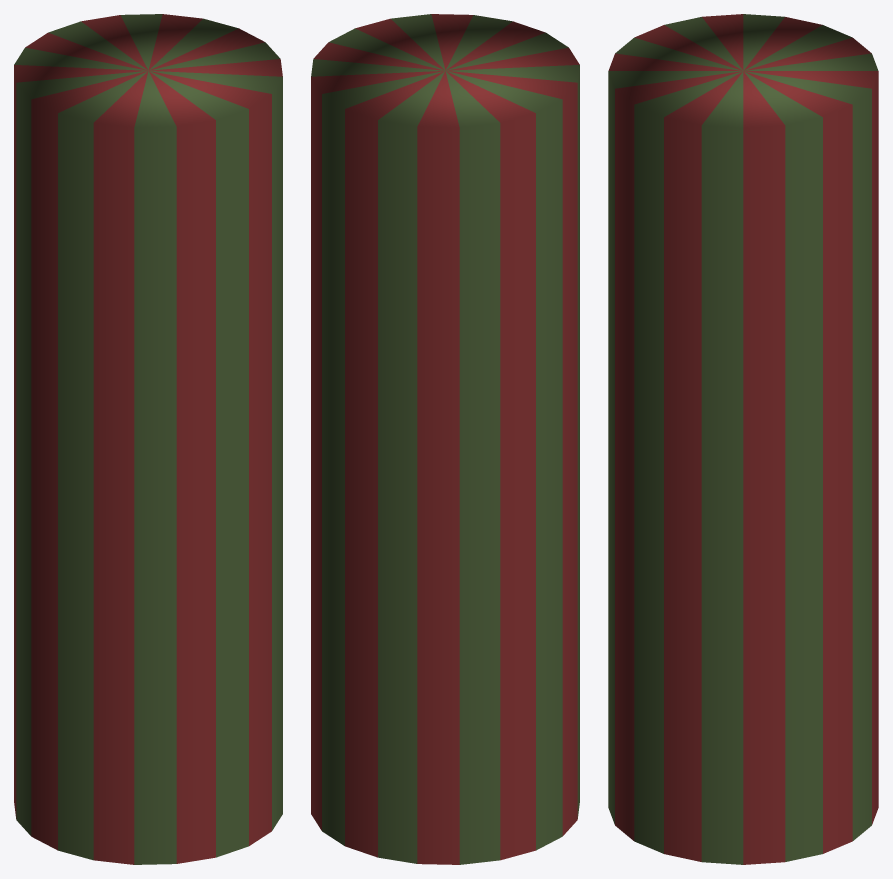
File: Unexploded Shell Final.fbx
3 renders of one model, left to right at view 1: azimuth 30°, elevation 25°; view 2: azimuth 150°, elevation 25°; view 3: azimuth 270°, elevation 25°, orthographic.
Parts seen in each view (by area): view 1: pCylinder1; view 2: pCylinder1; view 3: pCylinder1.
Part boxes in pixels (x1,y1,x2,y2): pCylinder1: (14, 14, 282, 864); pCylinder1: (311, 14, 579, 864); pCylinder1: (608, 14, 878, 864).
Size of the model in its own units: 0.6484 by 1.95 by 0.6484.
